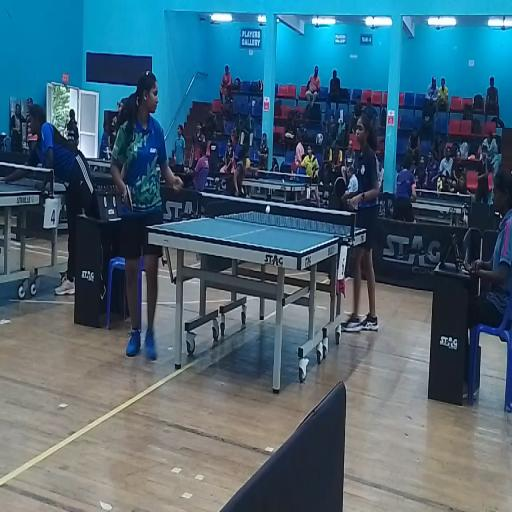ball: (266, 206, 270, 213)
